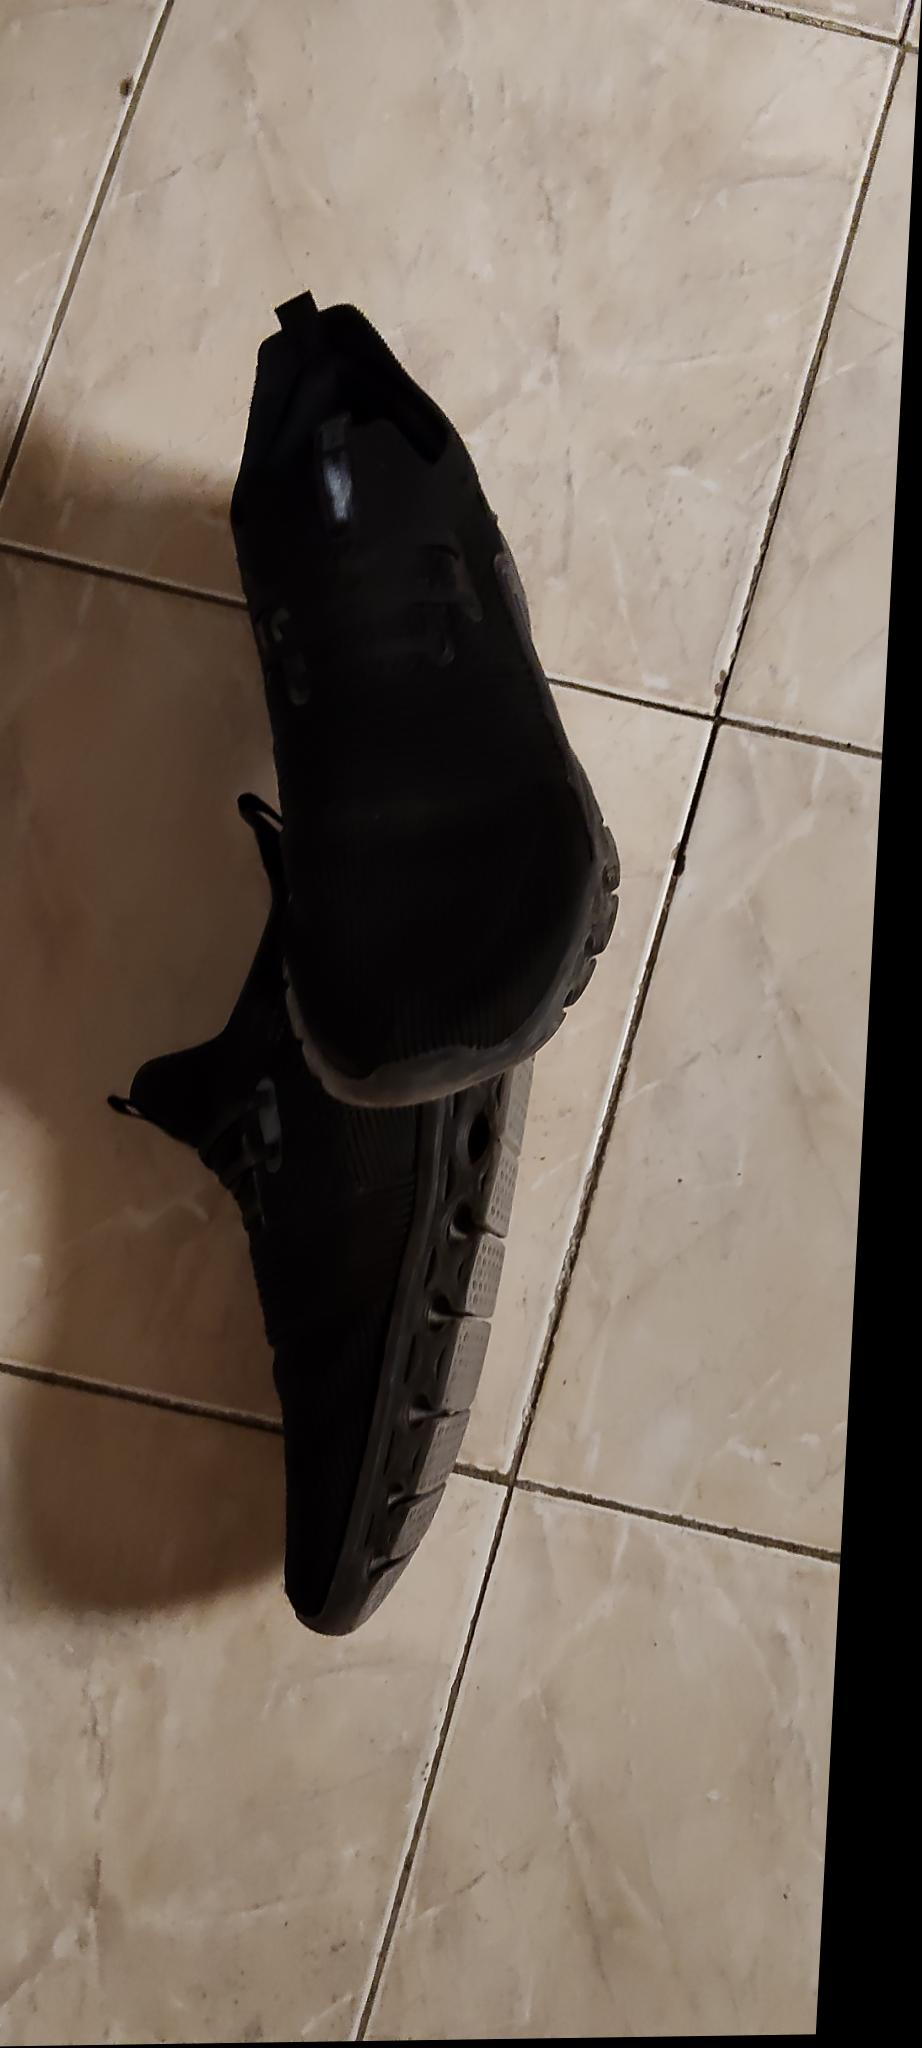Shoes: (75, 787, 552, 1638), (197, 286, 650, 1107)
